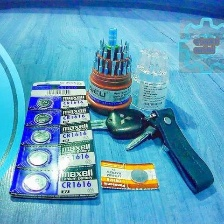battery: (21, 170, 50, 195), (26, 148, 52, 169), (30, 128, 52, 145), (32, 111, 53, 126), (33, 97, 54, 109)
book: (4, 75, 103, 206), (96, 158, 162, 193)
